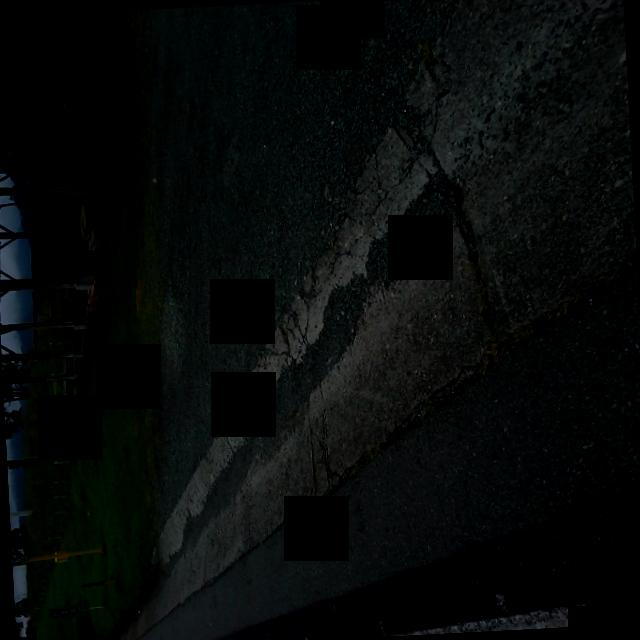DITCH: (35, 0, 640, 640), (54, 0, 640, 640), (70, 0, 640, 640)
